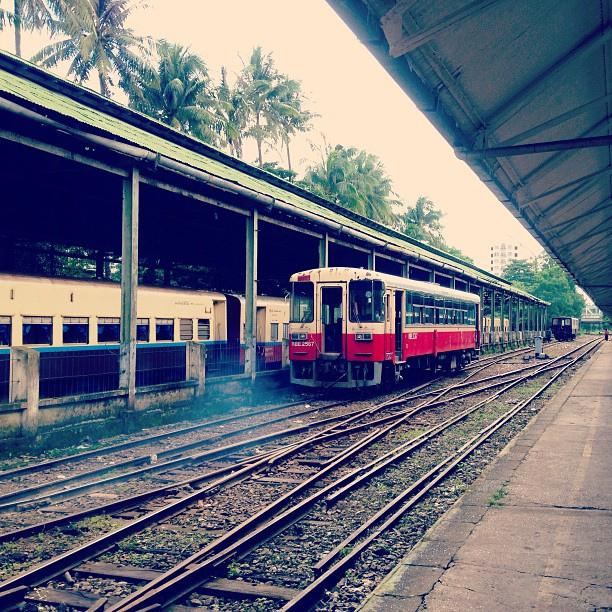Train: (2, 272, 293, 372), (291, 269, 485, 390), (481, 317, 511, 346)
